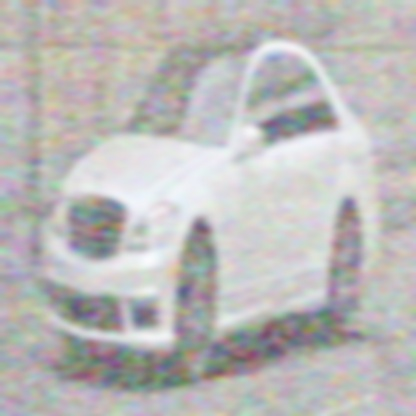Vehicle: (40, 29, 384, 395)
